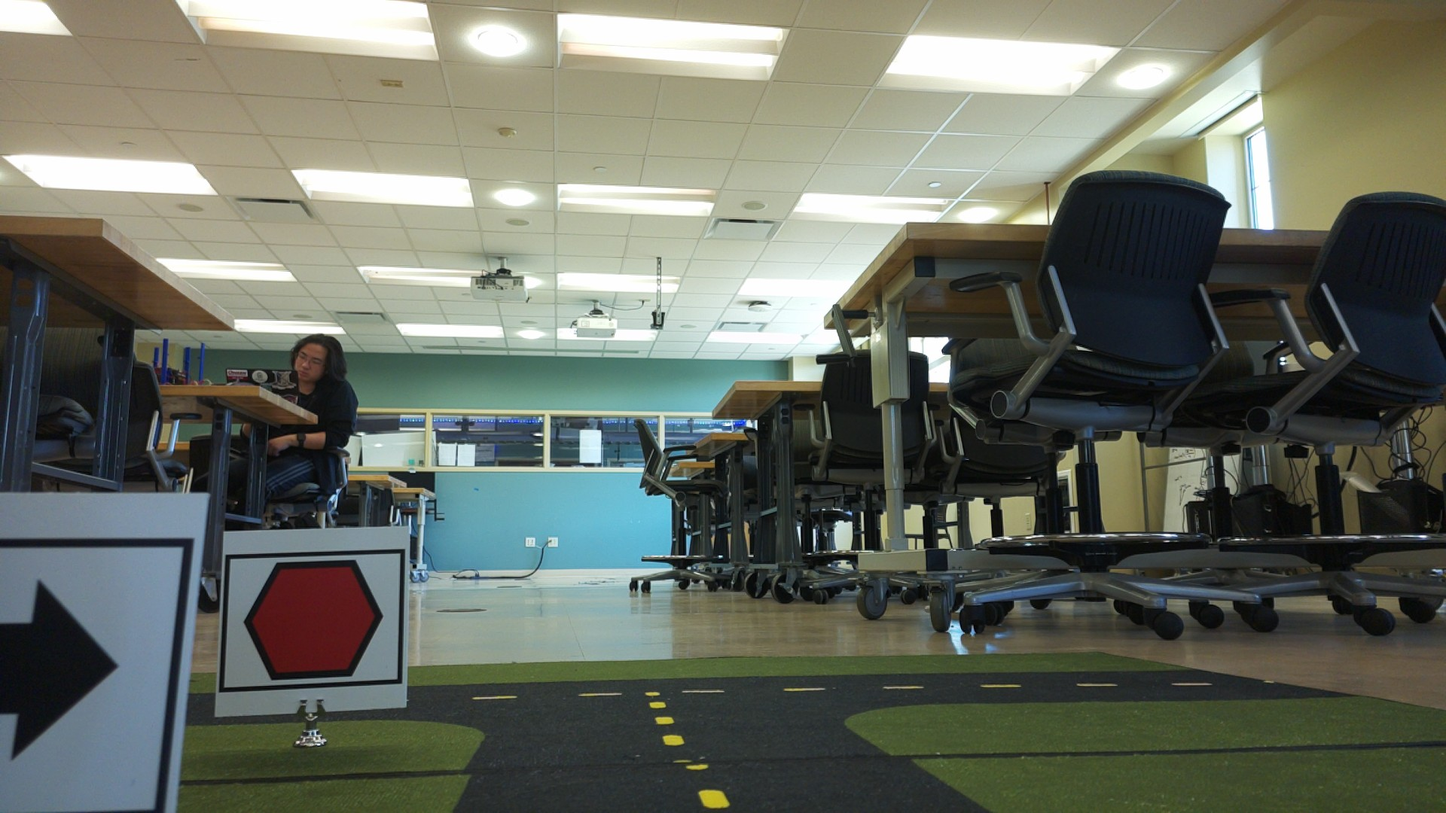stop: (230, 557, 398, 686)
yellowline: (651, 699, 682, 748)
